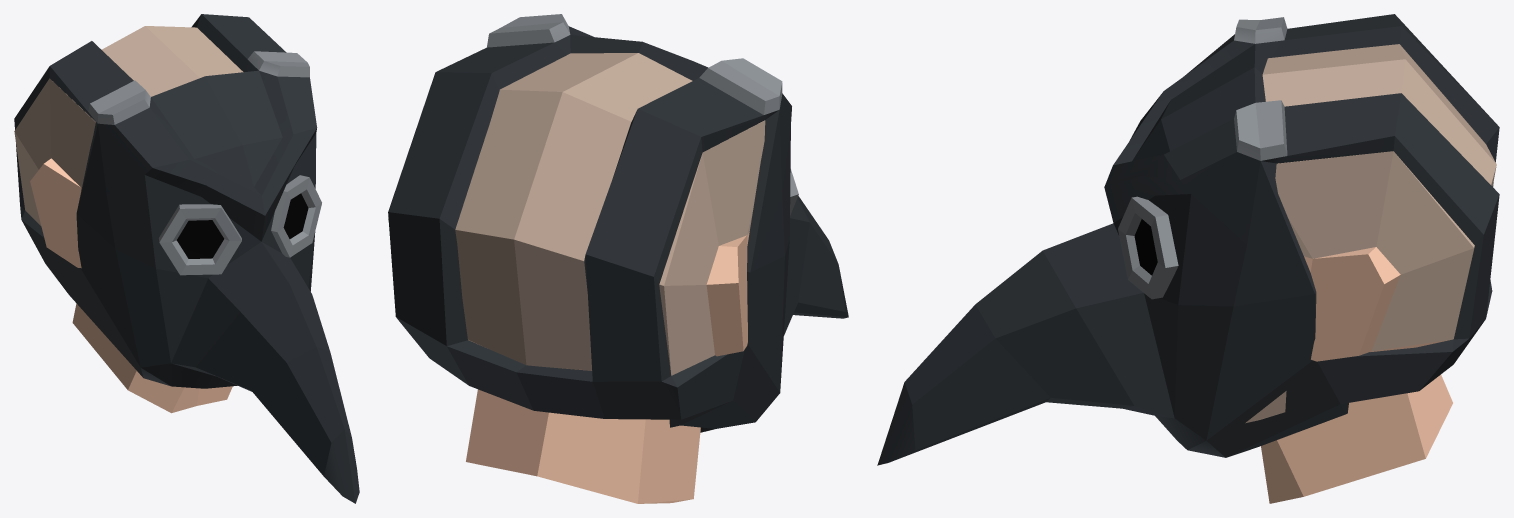
File: Chr_Head_No_Elements_Male_01_Static.fbx
3 views of the same model, side by side, from view 1: azimuth 30°, elevation 25°; view 2: azimuth 150°, elevation 25°; view 3: azimuth 270°, elevation 25° (orthographic). The views are drawn at different scales.
Parts seen in each view (by area): view 1: Chr_Head_No_Elements_Male_01_Static; view 2: Chr_Head_No_Elements_Male_01_Static; view 3: Chr_Head_No_Elements_Male_01_Static.
Part boxes in pixels (x1=…): Chr_Head_No_Elements_Male_01_Static: x1=14, y1=14, x2=359, y2=503; Chr_Head_No_Elements_Male_01_Static: x1=388, y1=14, x2=848, y2=503; Chr_Head_No_Elements_Male_01_Static: x1=877, y1=14, x2=1499, y2=503.
Size of the model in its own units: 0.2661 by 0.3523 by 0.463.
